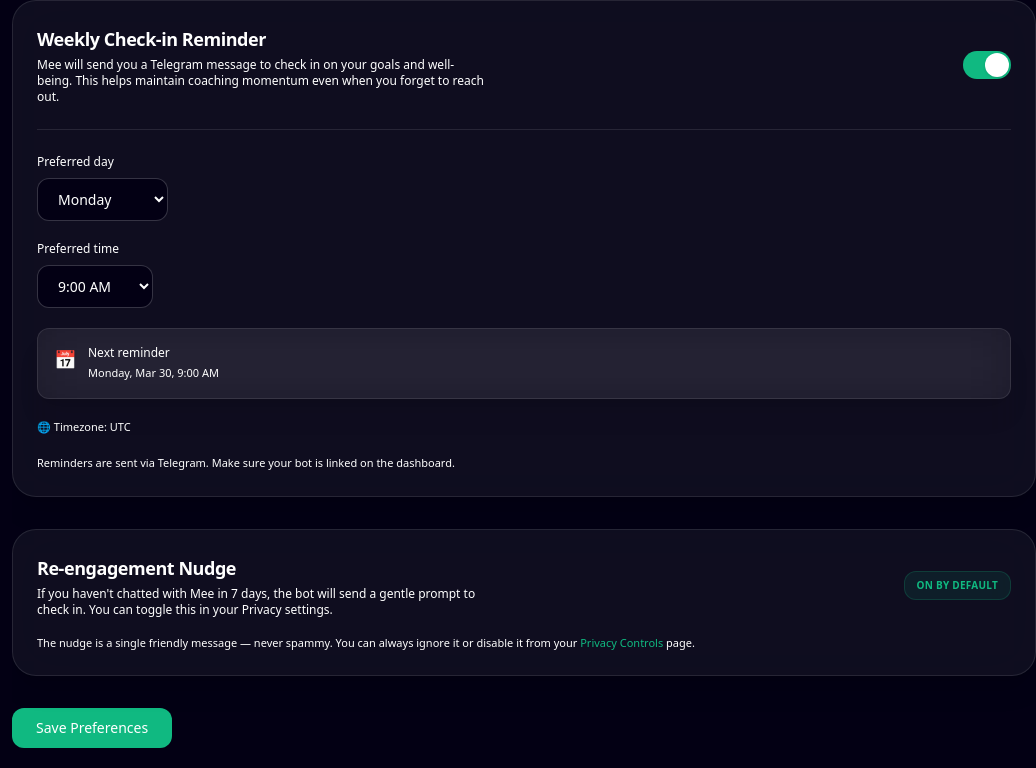
NotificationPreferences › shows error on save failure
Click the button "Save Preferences" at x=92, y=728, box [12,708,172,748]
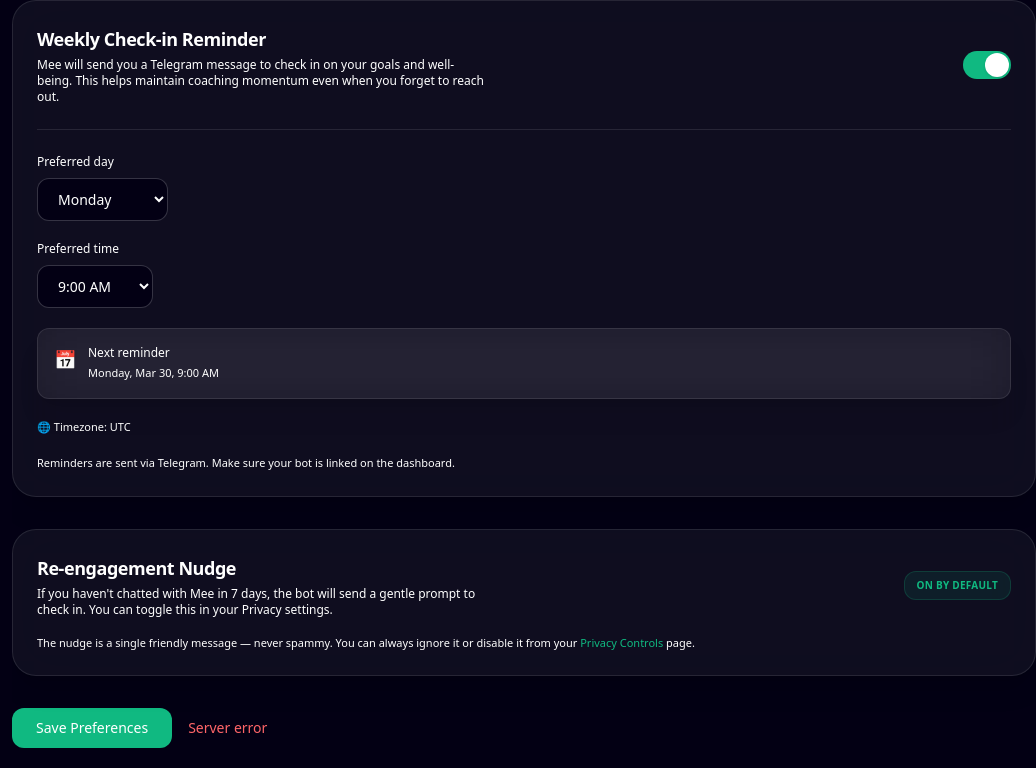
Now the text "Server error" is shown, box [188,718,267,738]
